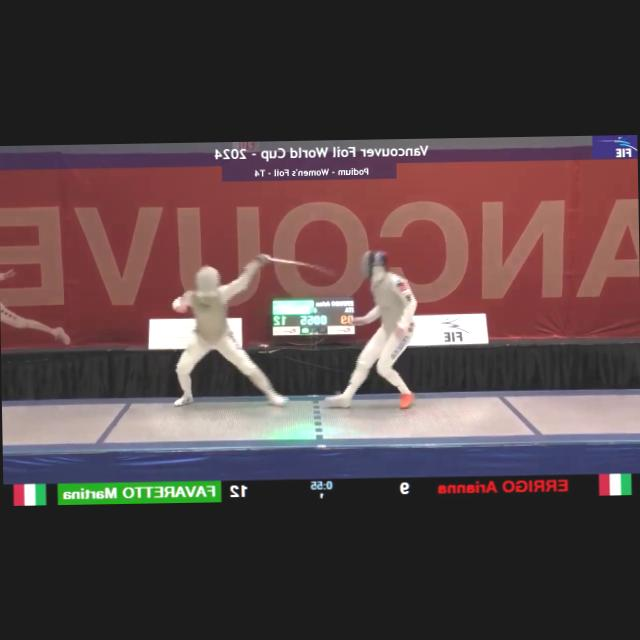blade: (256, 251, 342, 282)
